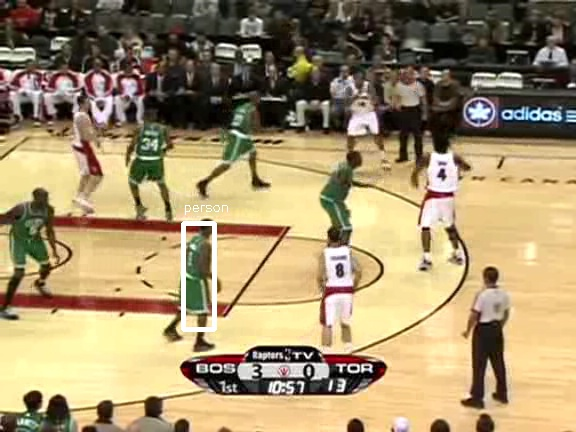person: (181, 236, 215, 317), (180, 236, 214, 317), (182, 236, 216, 317), (181, 235, 215, 316), (181, 237, 215, 318)
target_negative: (338, 206, 525, 285), (73, 363, 281, 428), (391, 332, 551, 413), (40, 256, 567, 268), (219, 264, 246, 427), (560, 265, 561, 318)
